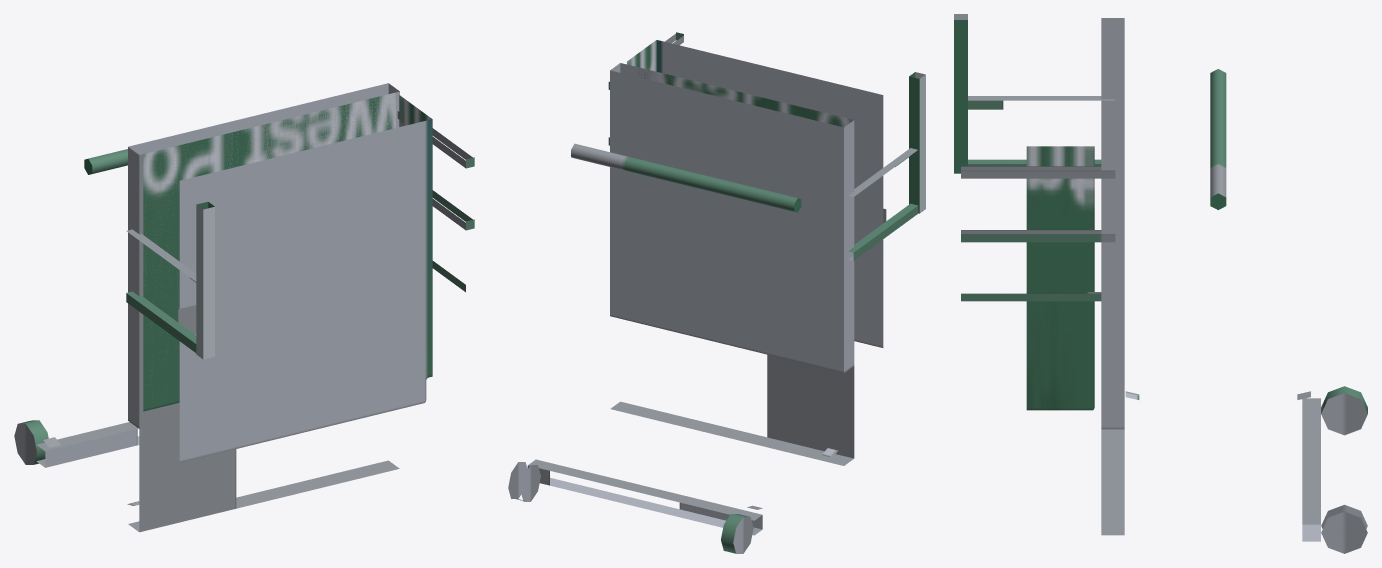
File: section-1.obj
3 renders of one model, left to right at view 1: azimuth 30°, elevation 25°; view 2: azimuth 150°, elevation 25°; view 3: azimuth 270°, elevation 25°, orthographic. The views are drawn at different scales.
Size of the model in its own units: 0.7 by 0.963 by 0.885.
